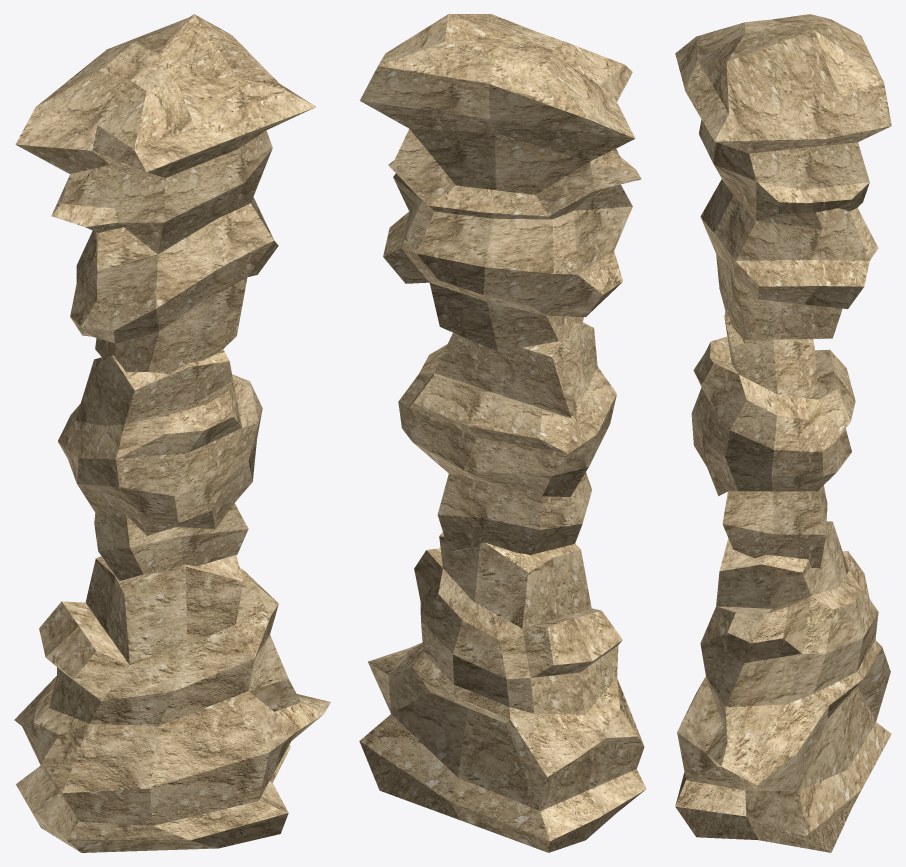
The model's file is rock-set-desert-06.dae.
The picture shows the model from 3 angles, left to right: view 1: azimuth 30°, elevation 25°; view 2: azimuth 150°, elevation 25°; view 3: azimuth 270°, elevation 25°; orthographic projection.
Parts seen in each view (by area): view 1: Cube_013; view 2: Cube_013; view 3: Cube_013.
Part boxes in pixels (left/top/right/bottom): Cube_013: left=14, top=14, right=330, bottom=852; Cube_013: left=359, top=14, right=646, bottom=852; Cube_013: left=675, top=14, right=891, bottom=852.
Bounding box in the file's own units: 1.39 × 0.8842 × 3.57.
